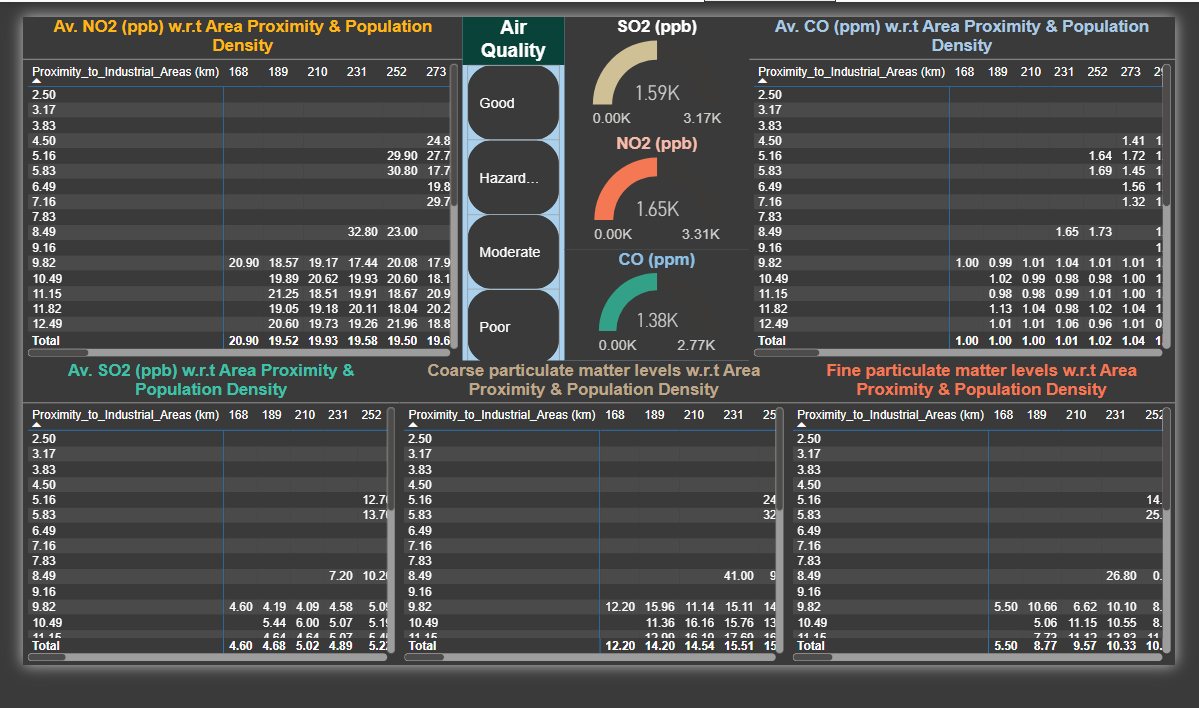

The dashboard page shown, as its layout file describes it:
{"tool":"powerbi","page":{"name":"Page 2","canvas":[1280,720],"ordinal":1},"visuals":[{"type":"actionButton","box":[0,0,100,40],"z":0},{"type":"pivotTable","title":"Av. NO2 (ppb) w.r.t Area Proximity & Population Density","fields":{"Rows":["updated_pollution_dataset.Proximity_to_Industrial_Areas (bins)"],"Columns":["updated_pollution_dataset.Population_Density (bins)"],"Values":["Avg(updated_pollution_dataset.NO2)"]},"box":[0,0,488.3,381.7],"z":1000},{"type":"advancedSlicerVisual","fields":{"Values":["updated_pollution_dataset.Air Quality"]},"box":[488.3,0,113.3,393.3],"z":2000},{"type":"pivotTable","title":"Av. SO2 (ppb) w.r.t Area Proximity & Population Density","fields":{"Rows":["updated_pollution_dataset.Proximity_to_Industrial_Areas (bins)"],"Columns":["updated_pollution_dataset.Population_Density (bins)"],"Values":["Avg(updated_pollution_dataset.SO2)"]},"box":[0,381.7,418.3,338.3],"z":3000},{"type":"pivotTable","title":"Av. CO (ppm) w.r.t Area Proximity & Population Density","fields":{"Rows":["updated_pollution_dataset.Proximity_to_Industrial_Areas (bins)"],"Columns":["updated_pollution_dataset.Population_Density (bins)"],"Values":["Avg(updated_pollution_dataset.CO)"]},"box":[806.7,0,473.3,381.7],"z":4000},{"type":"pivotTable","title":"Coarse particulate matter levels w.r.t Area Proximity & Population Density","fields":{"Rows":["updated_pollution_dataset.Proximity_to_Industrial_Areas (bins)"],"Columns":["updated_pollution_dataset.Population_Density (bins)"],"Values":["Avg(updated_pollution_dataset.PM10)"]},"box":[418.3,381.7,431.7,338.3],"z":5000},{"type":"pivotTable","title":"Fine particulate matter levels w.r.t Area Proximity & Population Density","fields":{"Rows":["updated_pollution_dataset.Proximity_to_Industrial_Areas (bins)"],"Columns":["updated_pollution_dataset.Population_Density (bins)"],"Values":["Avg(updated_pollution_dataset.PM2.5)"]},"box":[850,381.7,430,338.3],"z":6000},{"type":"gauge","fields":{"Y":["Sum(updated_pollution_dataset.Normalized SO2)"]},"box":[601.7,0,205,130],"z":7000},{"type":"gauge","fields":{"Y":["Sum(updated_pollution_dataset.Normalized NO2)"]},"box":[601.7,130,205,128.3],"z":8000},{"type":"gauge","fields":{"Y":["Sum(updated_pollution_dataset.Normalized CO)"]},"box":[601.7,258.3,205,123.3],"z":9000}]}

Visuals, with their boxes in screenshot pixels (x1, y1, x2, y2):
actionButton: <region>22, 12, 111, 48</region>
"Av. NO2 (ppb) w.r.t Area Proximity & Population Density" pivotTable: <region>22, 12, 457, 353</region>
advancedSlicerVisual - updated_pollution_dataset.Air Quality: <region>457, 12, 558, 363</region>
"Av. SO2 (ppb) w.r.t Area Proximity & Population Density" pivotTable: <region>22, 353, 395, 654</region>
"Av. CO (ppm) w.r.t Area Proximity & Population Density" pivotTable: <region>741, 12, 1162, 353</region>
"Coarse particulate matter levels w.r.t Area Proximity & Population Density" pivotTable: <region>395, 353, 779, 654</region>
"Fine particulate matter levels w.r.t Area Proximity & Population Density" pivotTable: <region>779, 353, 1162, 654</region>
gauge - Sum(updated_pollution_dataset.Normalized SO2): <region>558, 12, 741, 128</region>
gauge - Sum(updated_pollution_dataset.Normalized NO2): <region>558, 128, 741, 243</region>
gauge - Sum(updated_pollution_dataset.Normalized CO): <region>558, 243, 741, 353</region>
